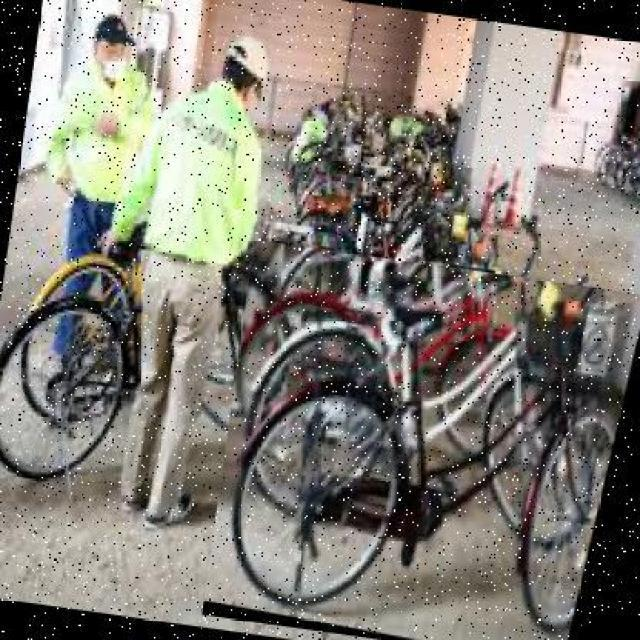bicycle: (200, 240, 640, 640)
